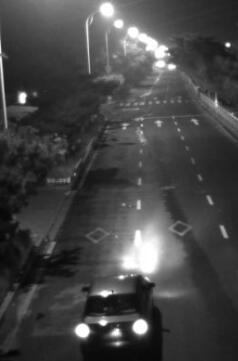car: (74, 272, 163, 358)
